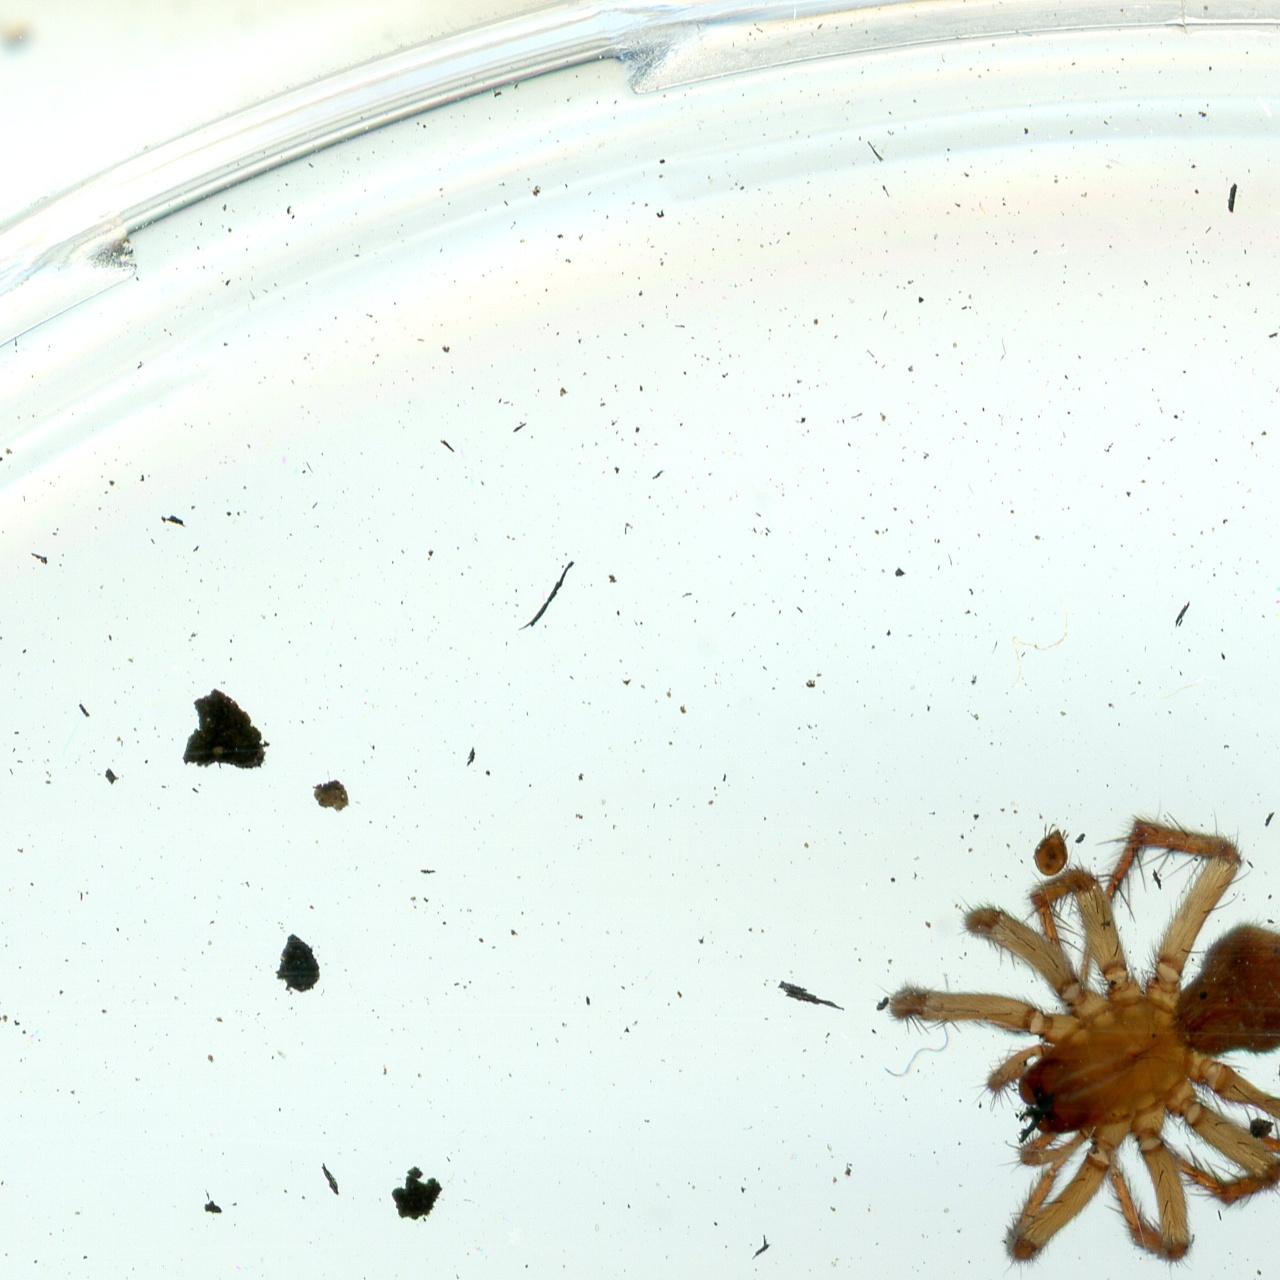arthropod: (869, 795, 1280, 1280)
